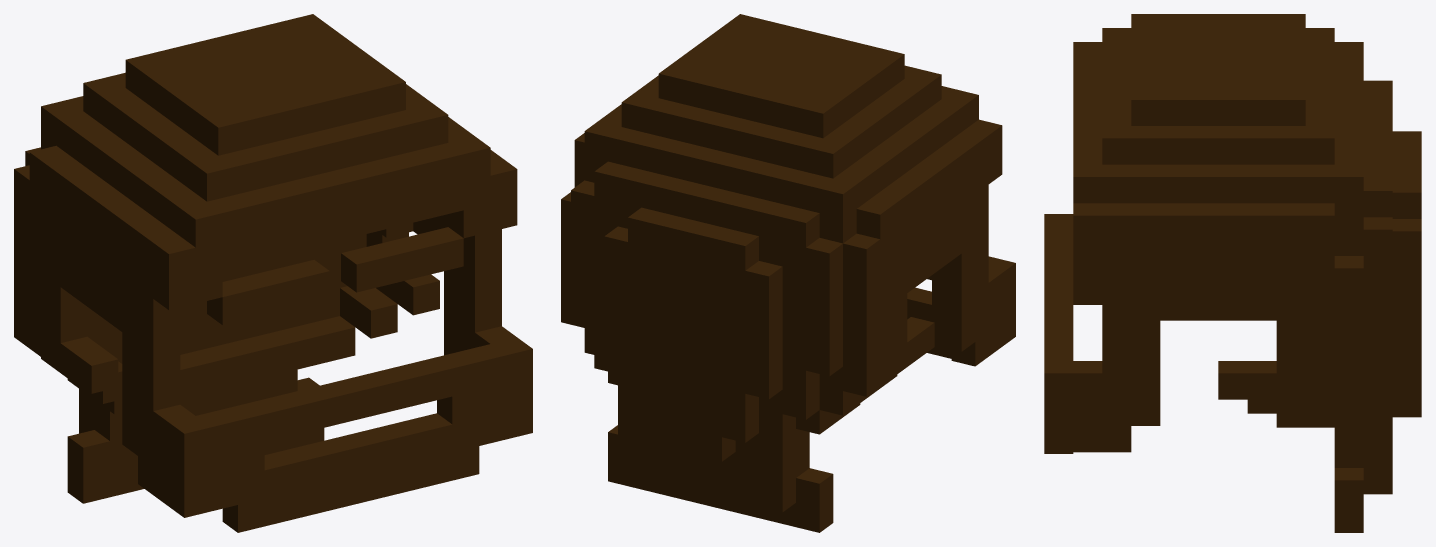
Rendered from Union_16.fbx.
3 views of the same model, side by side, from view 1: azimuth 30°, elevation 25°; view 2: azimuth 150°, elevation 25°; view 3: azimuth 270°, elevation 25° (orthographic). The views are drawn at different scales.
Parts seen in each view (by area): view 1: Union_16; view 2: Union_16; view 3: Union_16.
Part boxes in pixels (box(x1,y1,x2,y2)): Union_16: box(14, 14, 532, 532); Union_16: box(561, 14, 1015, 532); Union_16: box(1044, 14, 1421, 532).
Size of the model in its own units: 13 by 16 by 13.
Materials: 1 (1 with a texture image).
